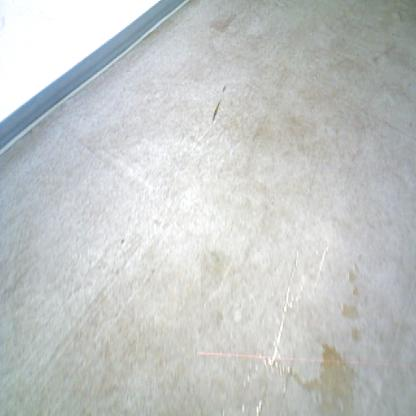liquid: (199, 245, 244, 328), (272, 247, 302, 356), (314, 343, 358, 416), (338, 253, 360, 341), (266, 356, 315, 393), (239, 359, 265, 416), (312, 245, 333, 290)
mark: (208, 9, 237, 33), (371, 42, 398, 65), (211, 96, 221, 123), (396, 9, 404, 23), (221, 81, 228, 93), (120, 236, 126, 246), (408, 120, 414, 130)
